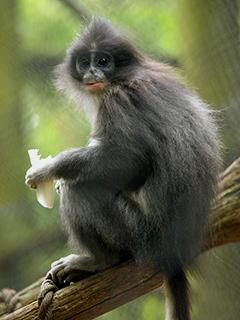monkey: (24, 16, 220, 318)
